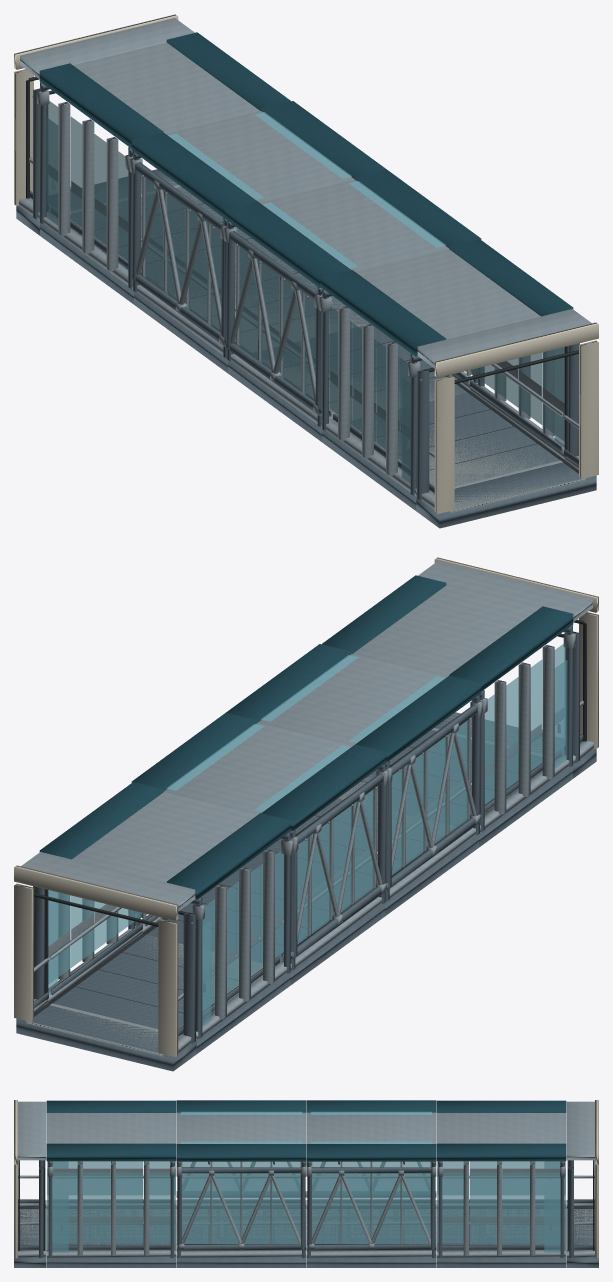
3 renders of one model, top to bottom at view 1: azimuth 30°, elevation 25°; view 2: azimuth 150°, elevation 25°; view 3: azimuth 270°, elevation 25°, orthographic. The views are drawn at different scales.
Parts seen in each view (by area): view 1: VIS_SpanA_Roof_InsulatedCore_steel_light, VIS_SpanB_Roof_InsulatedCore_steel_light, VIS_VestibuleFar_Vestibule_Roof_steel_light, VIS_VestibuleNear_Vestibule_Roof_steel_light, VIS_VestibuleNear_Vestibule_Glazing_glass, VIS_VestibuleNear_Deck_Structural_steel, VIS_SpanA_Roof_Fascia_accent, VIS_SpanB_Roof_Fascia_accent, VIS_VestibuleNear_Vestibule_CeilingEdge_accent, VIS_VestibuleFar_Vestibule_CeilingEdge_accent, VIS_VestibuleNear_Vestibule_Pilasters_steel_light, VIS_VestibuleFar_Deck_Structural_steel (+40 smaller); view 2: VIS_SpanB_Roof_InsulatedCore_steel_light, VIS_SpanA_Roof_InsulatedCore_steel_light, VIS_VestibuleNear_Vestibule_Roof_steel_light, VIS_VestibuleFar_Vestibule_Roof_steel_light, VIS_VestibuleFar_Vestibule_Glazing_glass, VIS_VestibuleFar_Deck_Structural_steel, VIS_SpanB_Roof_Fascia_accent, VIS_SpanA_Roof_Fascia_accent, VIS_VestibuleFar_Vestibule_CeilingEdge_accent, VIS_VestibuleNear_Vestibule_CeilingEdge_accent, VIS_SpanA_Deck_Structural_steel, VIS_VestibuleFar_Vestibule_Pilasters_steel_light (+38 smaller); view 3: VIS_VestibuleFar_Vestibule_Glazing_glass, VIS_VestibuleNear_Vestibule_Glazing_glass, VIS_SpanA_Glazing_Side_glass, VIS_SpanB_Glazing_Side_glass, VIS_VestibuleFar_Vestibule_CeilingEdge_accent, VIS_VestibuleNear_Vestibule_CeilingEdge_accent, VIS_SpanA_Roof_InsulatedCore_steel_light, VIS_SpanB_Roof_InsulatedCore_steel_light, VIS_SpanA_Roof_Fascia_accent, VIS_SpanB_Roof_Fascia_accent, VIS_VestibuleFar_Vestibule_Roof_steel_light, VIS_VestibuleNear_Vestibule_Roof_steel_light (+58 smaller).
Boxes of the visible parts, <box> form: VIS_SpanA_Roof_InsulatedCore_steel_light: <box>260,180,448,271</box>; VIS_SpanB_Roof_InsulatedCore_steel_light: <box>166,111,354,202</box>; VIS_VestibuleFar_Vestibule_Roof_steel_light: <box>73,42,259,133</box>; VIS_VestibuleNear_Vestibule_Roof_steel_light: <box>356,249,540,339</box>; VIS_VestibuleNear_Vestibule_Glazing_glass: <box>329,308,564,466</box>; VIS_VestibuleNear_Deck_Structural_steel: <box>322,392,559,510</box>; VIS_SpanA_Roof_Fascia_accent: <box>226,170,481,287</box>; VIS_SpanB_Roof_Fascia_accent: <box>131,101,386,218</box>; VIS_VestibuleNear_Vestibule_CeilingEdge_accent: <box>322,239,573,356</box>; VIS_VestibuleFar_Vestibule_CeilingEdge_accent: <box>39,32,290,148</box>; VIS_VestibuleNear_Vestibule_Pilasters_steel_light: <box>338,306,554,476</box>; VIS_VestibuleFar_Deck_Structural_steel: <box>40,187,274,304</box>; VIS_SpanB_Roof_InsulatedCore_steel_light: <box>164,723,352,814</box>; VIS_SpanA_Roof_InsulatedCore_steel_light: <box>258,654,446,745</box>; VIS_VestibuleNear_Vestibule_Roof_steel_light: <box>353,585,539,676</box>; VIS_VestibuleFar_Vestibule_Roof_steel_light: <box>72,792,256,882</box>; VIS_VestibuleFar_Vestibule_Glazing_glass: <box>48,851,283,1009</box>; VIS_VestibuleFar_Deck_Structural_steel: <box>53,935,290,1053</box>; VIS_SpanB_Roof_Fascia_accent: <box>131,713,386,830</box>; VIS_SpanA_Roof_Fascia_accent: <box>226,644,481,761</box>; VIS_VestibuleFar_Vestibule_CeilingEdge_accent: <box>39,782,290,899</box>; VIS_VestibuleNear_Vestibule_CeilingEdge_accent: <box>322,575,573,691</box>; VIS_SpanA_Deck_Structural_steel: <box>242,798,478,916</box>; VIS_VestibuleFar_Vestibule_Pilasters_steel_light: <box>58,849,274,1019</box>; VIS_VestibuleFar_Vestibule_Glazing_glass: <box>437,1161,565,1243</box>; VIS_VestibuleNear_Vestibule_Glazing_glass: <box>47,1161,175,1243</box>; VIS_SpanA_Glazing_Side_glass: <box>182,1161,300,1243</box>; VIS_SpanB_Glazing_Side_glass: <box>312,1161,430,1243</box>; VIS_VestibuleFar_Vestibule_CeilingEdge_accent: <box>436,1100,566,1161</box>; VIS_VestibuleNear_Vestibule_CeilingEdge_accent: <box>46,1100,176,1161</box>; VIS_SpanA_Roof_InsulatedCore_steel_light: <box>176,1112,306,1143</box>; VIS_SpanB_Roof_InsulatedCore_steel_light: <box>306,1112,436,1143</box>; VIS_SpanA_Roof_Fascia_accent: <box>176,1100,306,1161</box>; VIS_SpanB_Roof_Fascia_accent: <box>306,1100,436,1161</box>; VIS_VestibuleFar_Vestibule_Roof_steel_light: <box>436,1113,566,1143</box>; VIS_VestibuleNear_Vestibule_Roof_steel_light: <box>46,1113,176,1143</box>.
Bounding box in the file's own units: 4.04 × 3.89 × 18.
Materials: 8 (8 with a texture image).
